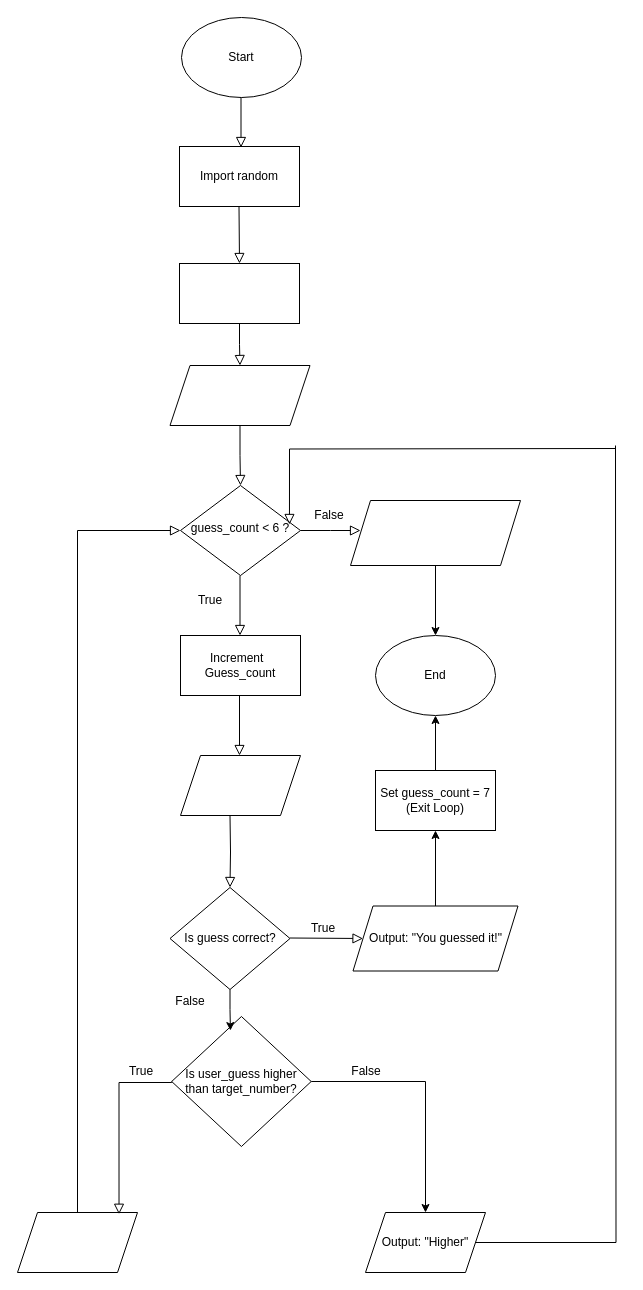
Image size: 643x1290. Some labels were removed from this diagram. The shapes that lost their labels are listed below. From the top down, each one's centre as x and y in pixels, then its label:
pixel 239 293: Initialize Variables target_number = rnd guess_count = 0
pixel 239 395: Display Instructions
pixel 435 533: Output: "Out of Guesses" Show Correct Answer
pixel 240 785: User Input: Guess
pixel 77 1242: Output: "Lower"
